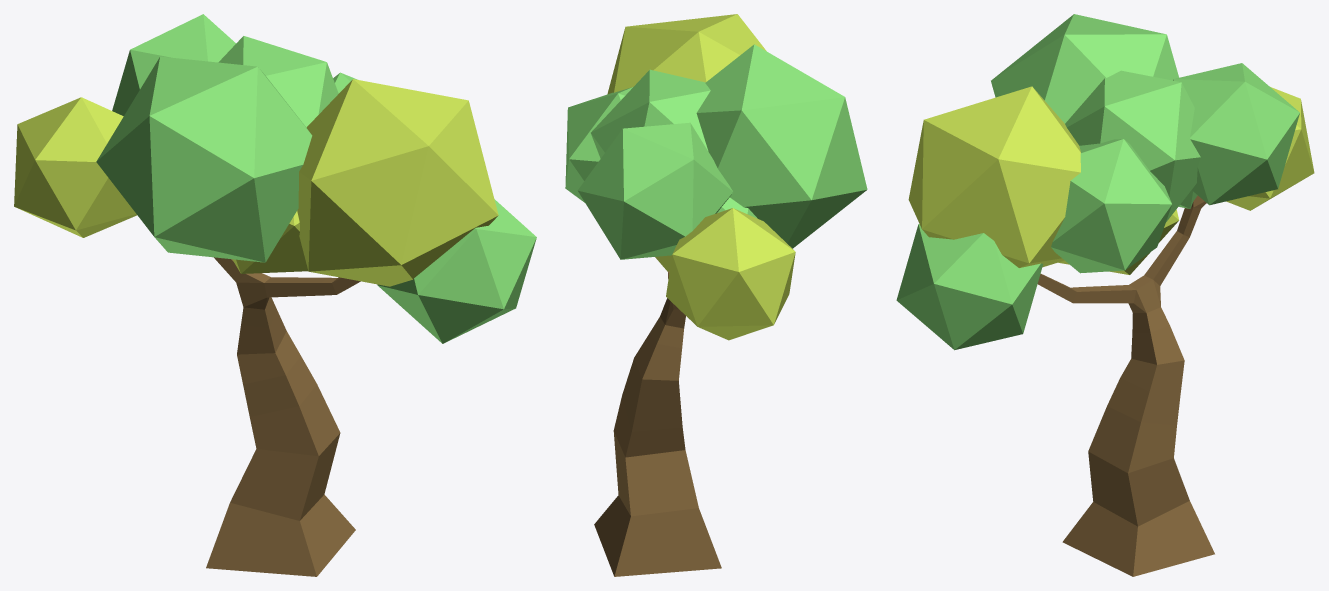
File: tree1 1.fbx
3 views of the same model, side by side, from view 1: azimuth 30°, elevation 25°; view 2: azimuth 150°, elevation 25°; view 3: azimuth 270°, elevation 25° (orthographic). The views are drawn at different scales.
Parts seen in each view (by area): view 1: Icosphere.009, Icosphere, Cube, Icosphere.001, Icosphere.003, Icosphere.006, Icosphere.002, Icosphere.007; view 2: Icosphere.009, Cube, Icosphere.002, Icosphere.001, Icosphere, Icosphere.006, Icosphere.008; view 3: Cube, Icosphere, Icosphere.003, Icosphere.002, Icosphere.008, Icosphere.009, Icosphere.006, Icosphere.001.
Boxes of the visible parts, x1=… form: Icosphere.009: x1=96, y1=56, x2=312, y2=262; Icosphere: x1=297, y1=79, x2=498, y2=286; Cube: x1=206, y1=257, x2=360, y2=576; Icosphere.001: x1=14, y1=97, x2=136, y2=237; Icosphere.003: x1=377, y1=199, x2=536, y2=343; Icosphere.006: x1=218, y1=36, x2=338, y2=127; Icosphere.002: x1=112, y1=14, x2=235, y2=116; Icosphere.007: x1=232, y1=211, x2=308, y2=273; Icosphere.009: x1=696, y1=44, x2=867, y2=248; Cube: x1=594, y1=271, x2=721, y2=576; Icosphere.002: x1=577, y1=122, x2=732, y2=259; Icosphere.001: x1=666, y1=208, x2=795, y2=340; Icosphere: x1=607, y1=14, x2=766, y2=94; Icosphere.006: x1=591, y1=69, x2=710, y2=158; Icosphere.008: x1=565, y1=87, x2=632, y2=202; Cube: x1=1037, y1=195, x2=1214, y2=576; Icosphere: x1=908, y1=86, x2=1080, y2=267; Icosphere.003: x1=896, y1=224, x2=1043, y2=350; Icosphere.002: x1=1173, y1=63, x2=1299, y2=205; Icosphere.008: x1=1051, y1=139, x2=1172, y2=273; Icosphere.009: x1=991, y1=14, x2=1178, y2=123; Icosphere.006: x1=1065, y1=70, x2=1200, y2=221; Icosphere.001: x1=1226, y1=87, x2=1314, y2=210.
Bounding box in the file's own units: 338 × 499 × 387.
